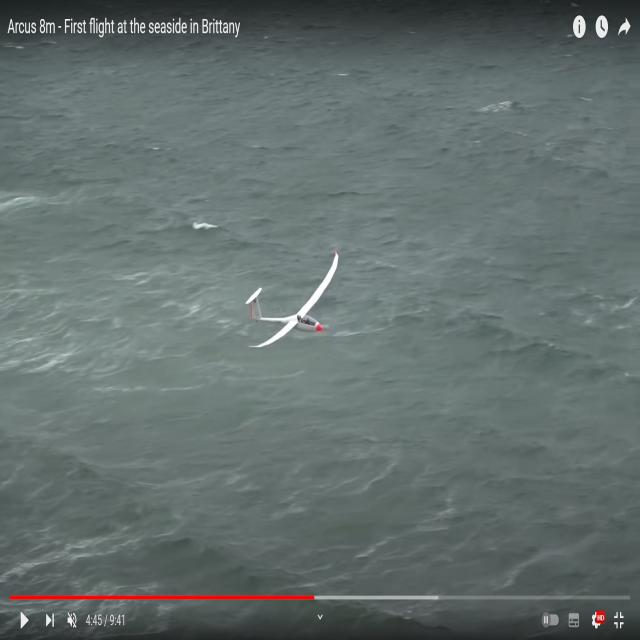iha: (280, 280, 308, 313)
